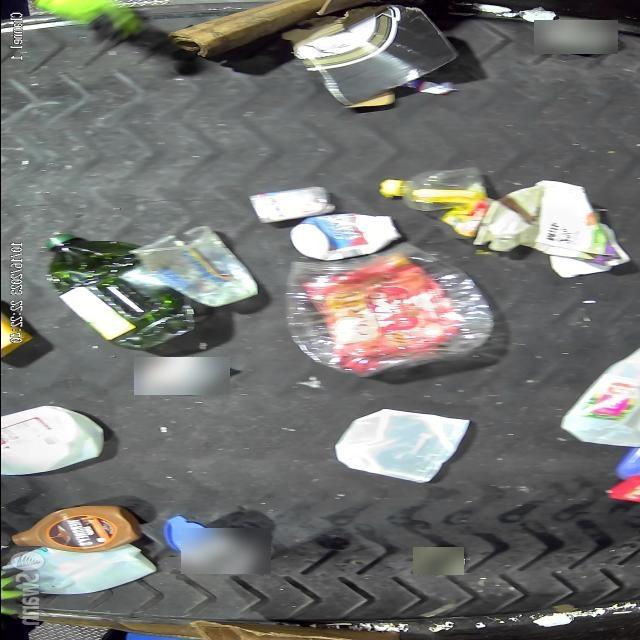milk_jug: (2, 544, 158, 596), (1, 406, 106, 476)
non_white_jug: (10, 505, 142, 553)
